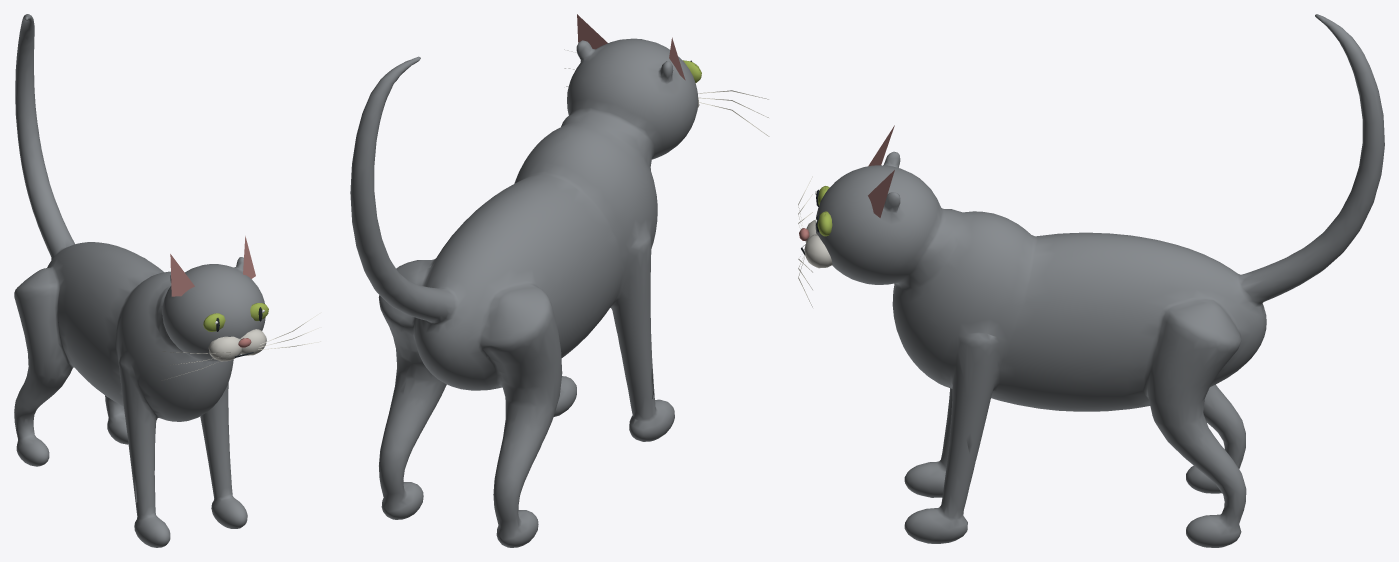
The model's file is cat_clean.glb.
The picture shows the model from 3 angles, left to right: view 1: azimuth 30°, elevation 25°; view 2: azimuth 150°, elevation 25°; view 3: azimuth 270°, elevation 25°; orthographic projection. The views are drawn at different scales.
Parts seen in each view (by area): view 1: innerscene_standing_cat; view 2: innerscene_standing_cat; view 3: innerscene_standing_cat.
Boxes of the visible parts, box(x1,y1,x2,y2) form: innerscene_standing_cat: box(14, 14, 321, 547); innerscene_standing_cat: box(350, 14, 769, 547); innerscene_standing_cat: box(798, 14, 1384, 547).
Size of the model in its own units: 0.3102 by 0.7465 by 0.7946.
